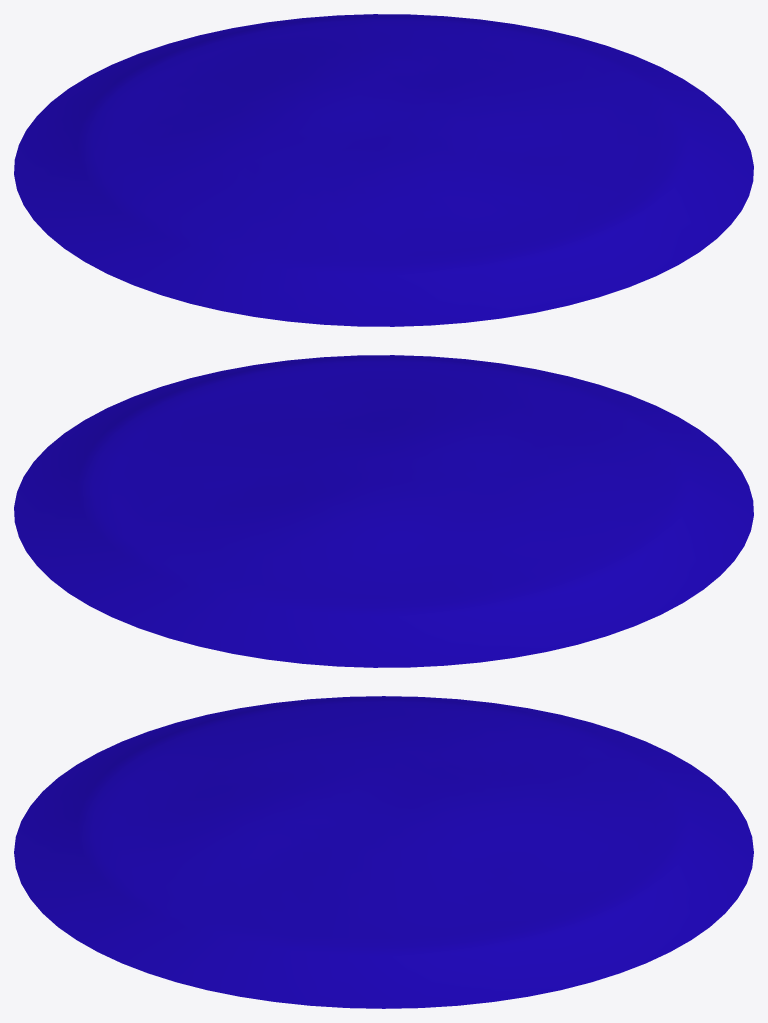
Rendered from floor.glb.
3 renders of one model, top to bottom at view 1: azimuth 30°, elevation 25°; view 2: azimuth 150°, elevation 25°; view 3: azimuth 270°, elevation 25°, orthographic.
Parts seen in each view (by area): view 1: Cube; view 2: Cube; view 3: Cube.
Part boxes in pixels (bbox=[...]): Cube: bbox=[14, 14, 753, 326]; Cube: bbox=[14, 355, 753, 667]; Cube: bbox=[14, 696, 753, 1008].
Size of the model in its own units: 65.49 by 4.51 by 65.49.
